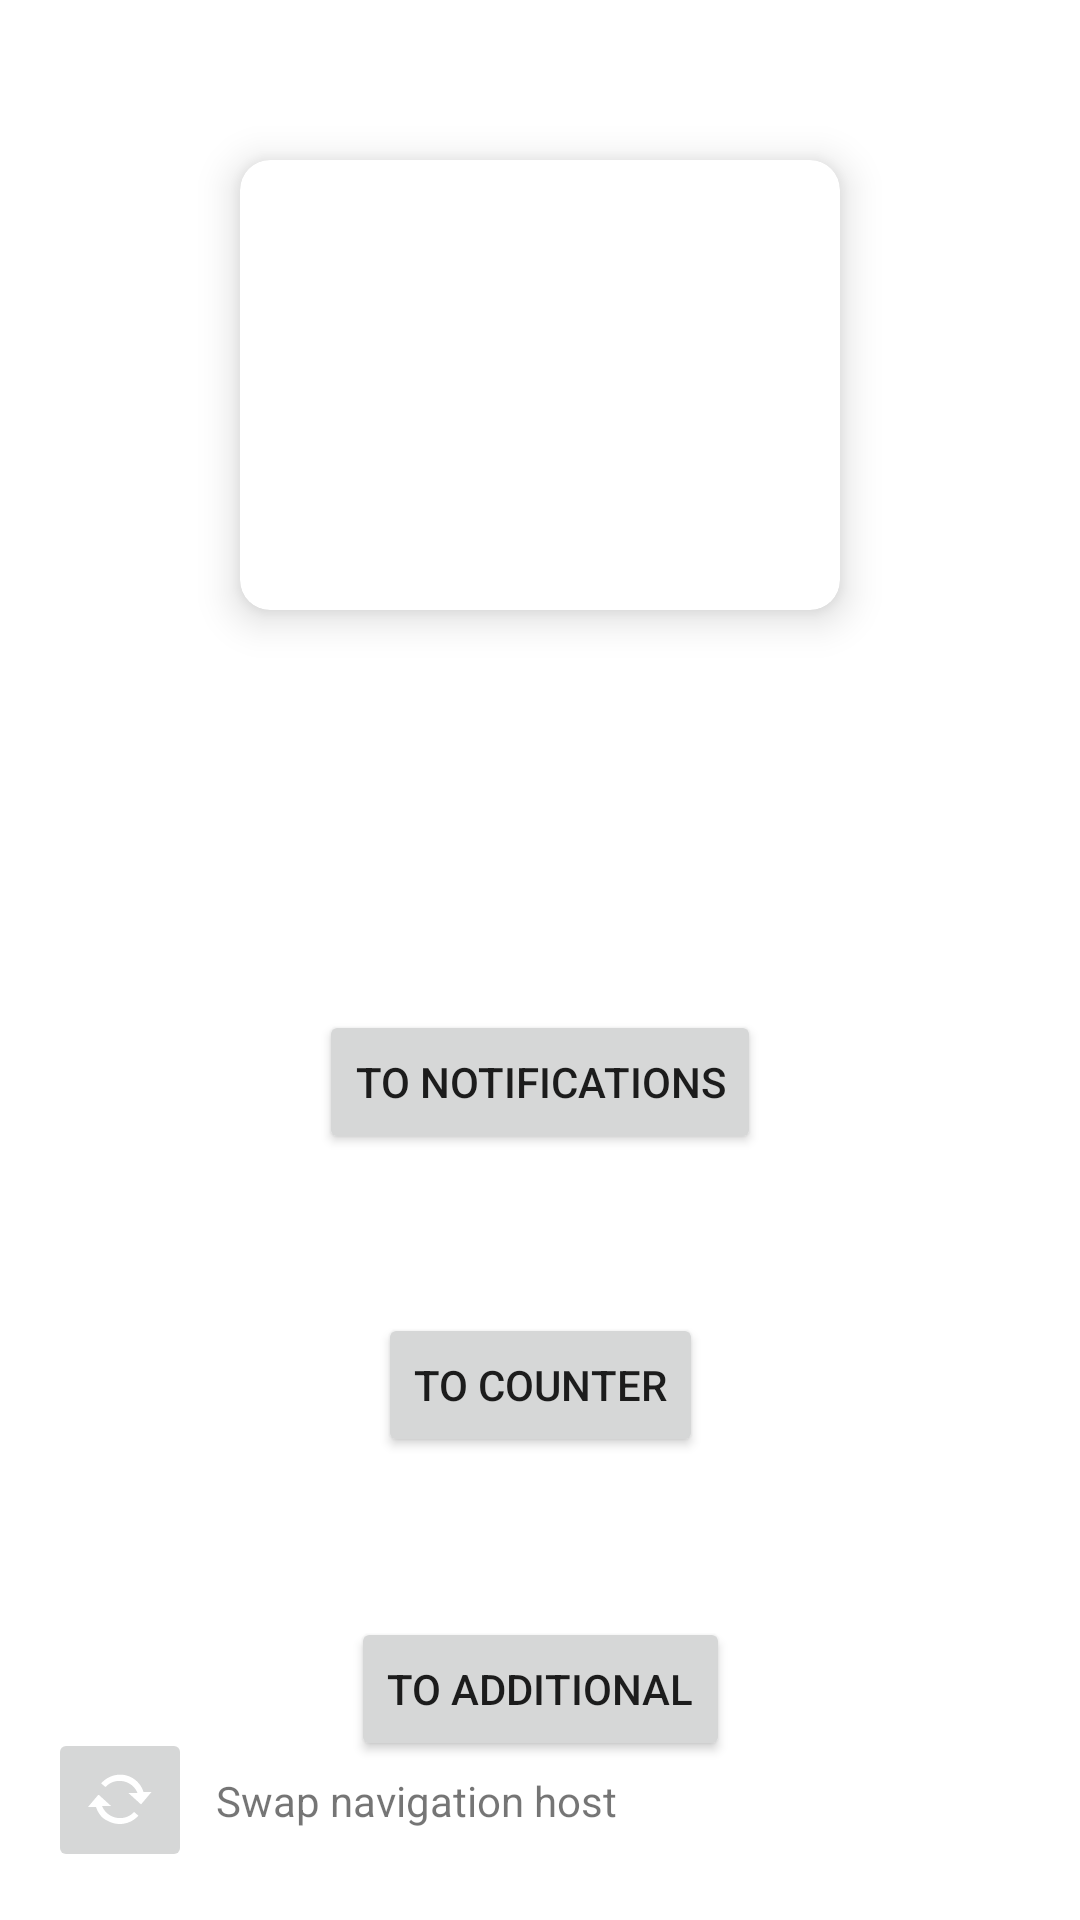

Icons on this 1080px×1920px Android screen, each with its box as (x1, y1, x2, y2):
sync: (60, 1746, 180, 1854)
